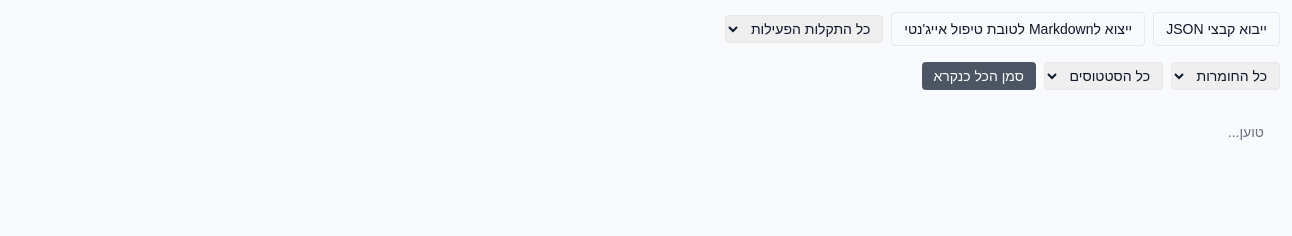
Test: BugReportsContent › disables the export controls while the download is in progress
Step 1. Click the button "ייצוא לMarkdown לטובת טיפול אייג'נטי" → (1018, 29), box [891,12,1145,46]
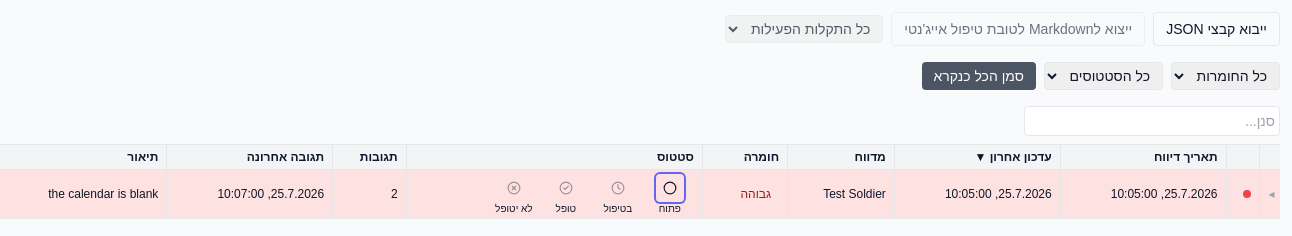
Check: the button "ייצוא לMarkdown לטובת טיפול אייג'נטי" is disabled, box [891,12,1145,46]
Check: the dropdown with test id "bug-report-export-scope" is disabled, box [725,15,883,43]
